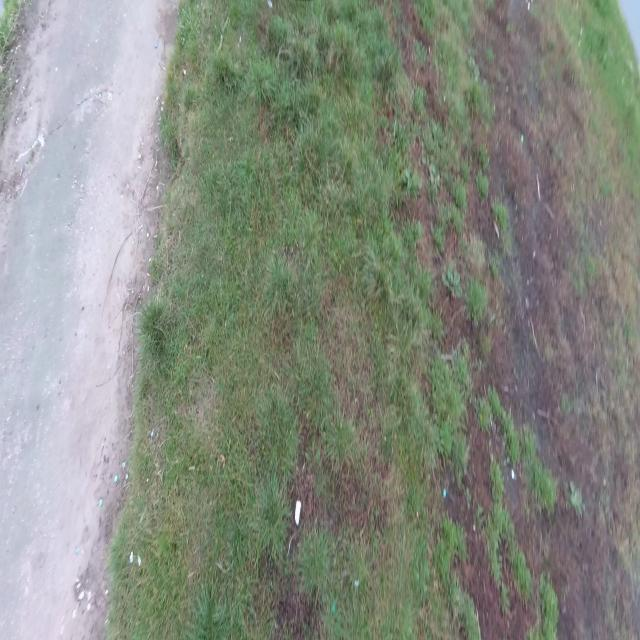rubbish: (295, 498, 302, 530)
